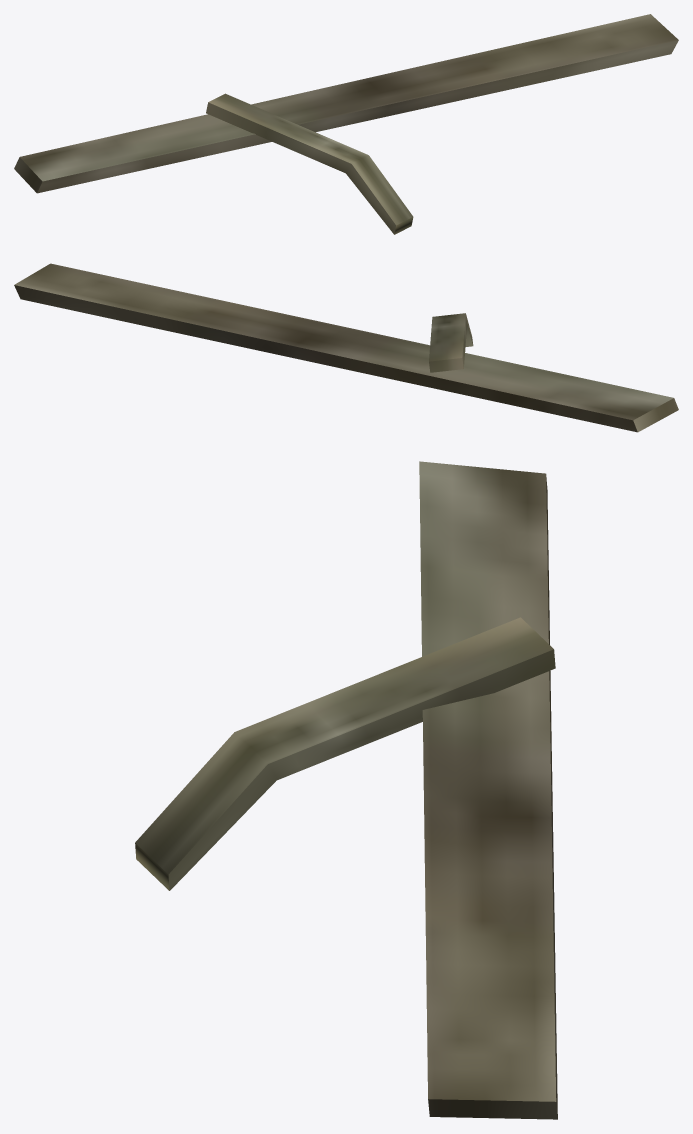
File: prop_vehicle_crusader2_part4.glb
3 views of the same model, one above another, from view 1: azimuth 30°, elevation 25°; view 2: azimuth 150°, elevation 25°; view 3: azimuth 270°, elevation 25° (orthographic). The views are drawn at different scales.
Bounding box in the file's own units: 43.04 × 5.42 × 12.49.
1 material, 1 textured.
